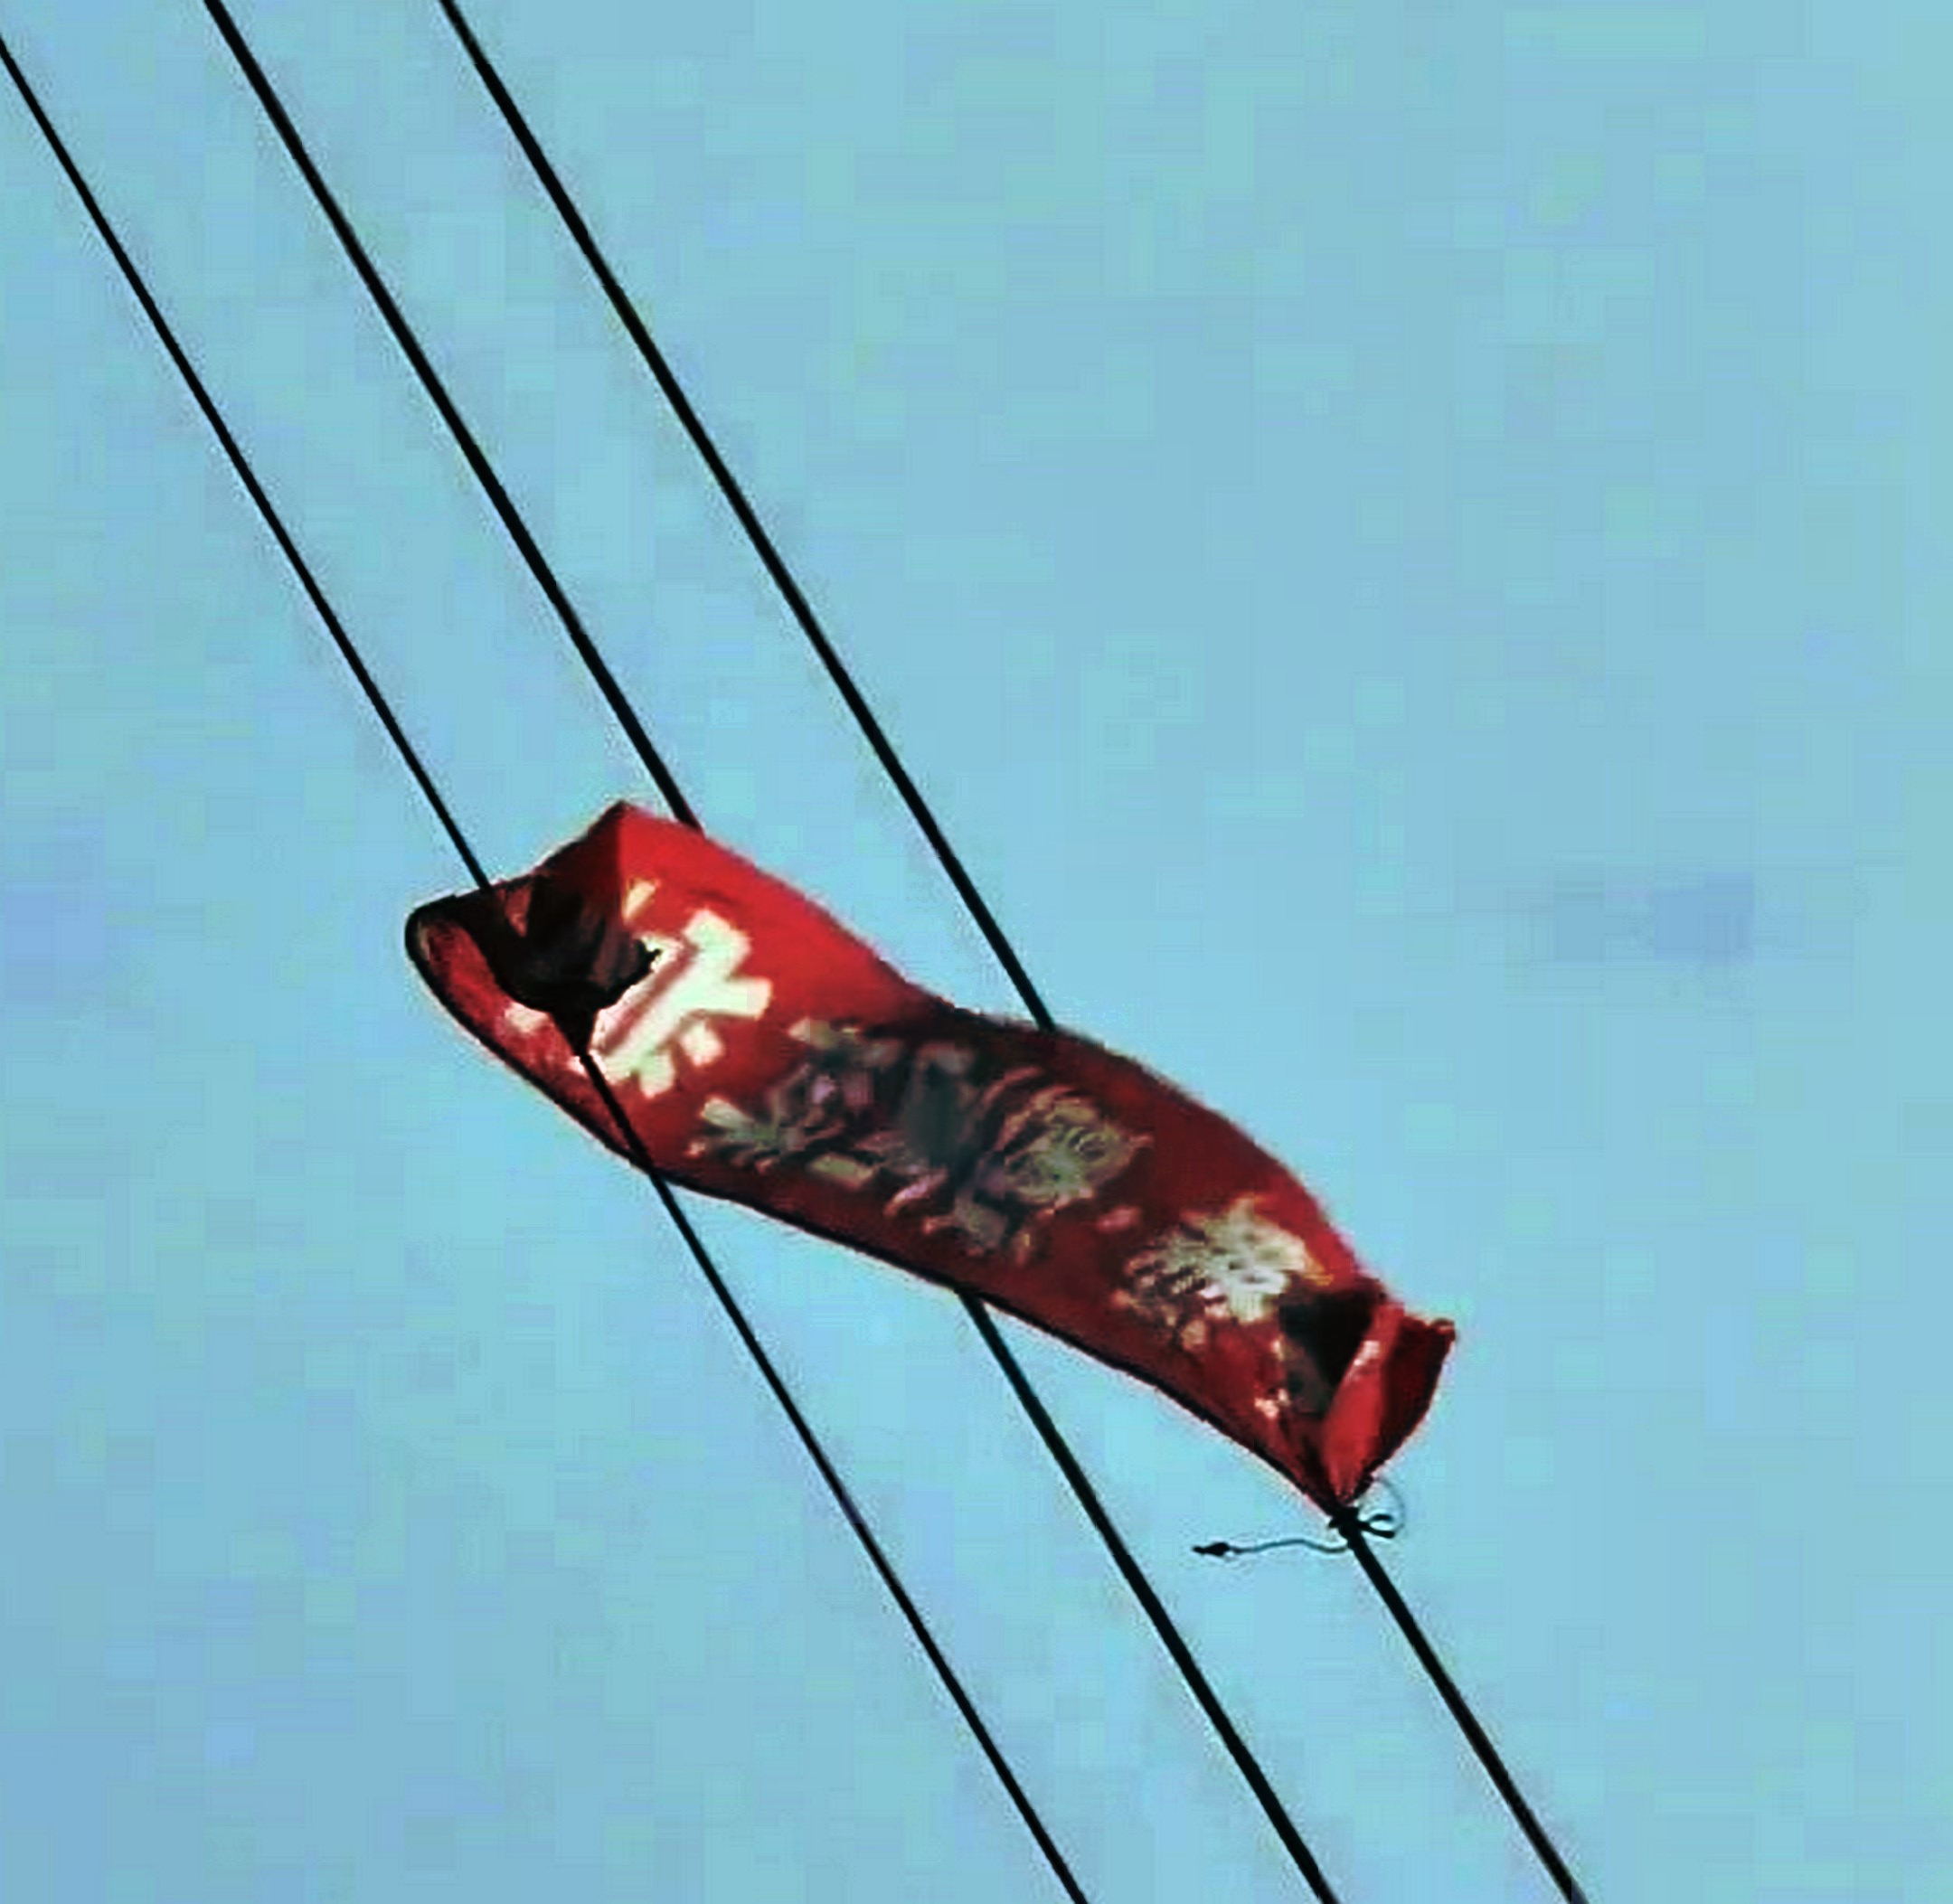wire foreign body: (384, 790, 1446, 1519)
